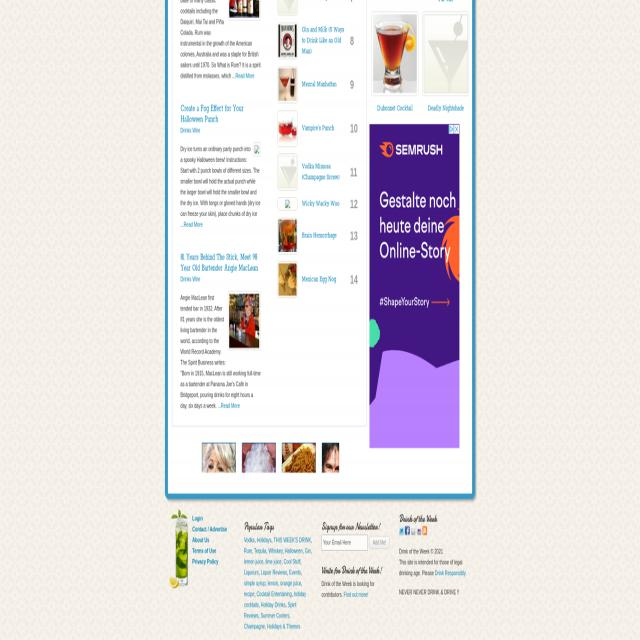button: (369, 123, 460, 448), (422, 12, 470, 96), (372, 12, 418, 96), (167, 506, 190, 592), (228, 291, 260, 351), (282, 441, 316, 473), (202, 441, 236, 472), (241, 443, 276, 472), (228, 0, 260, 20), (279, 112, 297, 145), (279, 156, 297, 189), (279, 263, 297, 296), (279, 68, 297, 101), (279, 220, 297, 252), (279, 25, 297, 57), (322, 444, 339, 473), (279, 0, 297, 15), (370, 536, 390, 549), (278, 198, 297, 210), (253, 142, 261, 157), (404, 526, 410, 535), (410, 526, 416, 535), (416, 526, 422, 535), (422, 526, 428, 535), (399, 526, 404, 535)
field: (322, 534, 368, 550)
